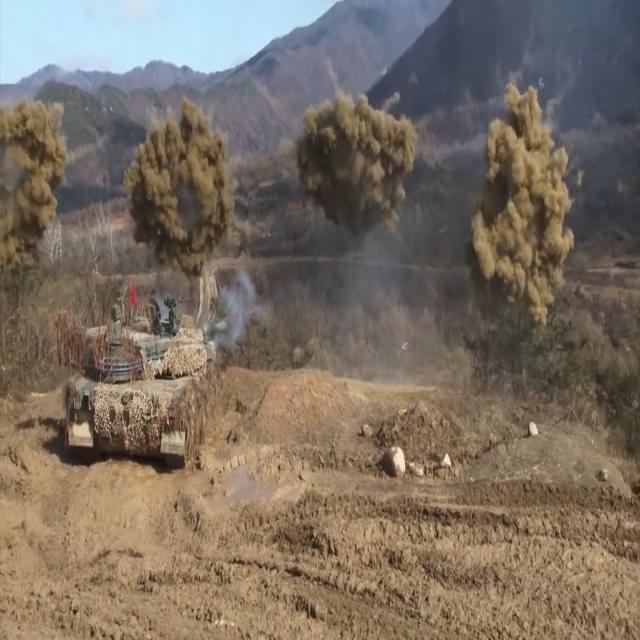korea tank: (53, 290, 261, 474)
